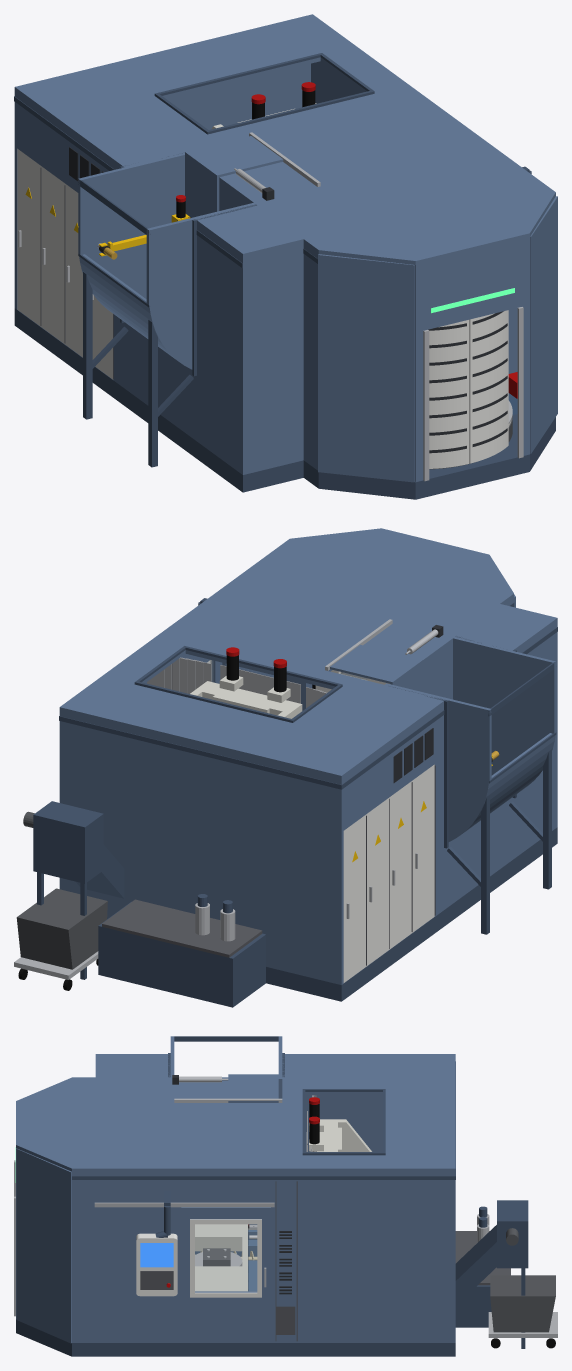
The model's file is clock1200evo_fms_4ax_blue.glb.
3 renders of one model, top to bottom at view 1: azimuth 30°, elevation 25°; view 2: azimuth 150°, elevation 25°; view 3: azimuth 270°, elevation 25°, orthographic. The views are drawn at different scales.
Parts seen in each view (by area): view 1: enclosure__mcm_blue, apc_housing__mcm_blue, tc_box__mcm_blue, electrical_cabinet__evo_white, enclosure__mcm_blue_dk, apc_housing__mcm_blue_dk, apc_door_left__evo_white, apc_door_right__evo_white, tc_box__mcm_blue_dk, tc_door__mcm_blue, apc_housing__steel, apc_door_left__anthracite (+4 smaller); view 2: enclosure__mcm_blue, tc_box__mcm_blue, chip_coolant__mcm_blue_dk, electrical_cabinet__evo_white, enclosure__mcm_blue_dk, apc_housing__mcm_blue, chip_cart__steel_dark, chip_coolant__anthracite_lt, tc_box__mcm_blue_dk, tc_door__mcm_blue, column__struct_grey, enclosure__anthracite (+6 smaller); view 3: enclosure__mcm_blue, apc_housing__mcm_blue, enclosure__mcm_blue_dk, chip_coolant__mcm_blue_dk, operator_door__glass_clear, operator_door__mcm_blue, chip_cart__steel_dark, table__struct_grey, enclosure__steel, operator_door__evo_white, column__struct_grey, tc_door__mcm_blue (+12 smaller).
Part boxes in pixels (<box>): enclosure__mcm_blue: <box>14,14,540,474</box>; apc_housing__mcm_blue: <box>303,181,557,482</box>; tc_box__mcm_blue: <box>78,152,255,369</box>; electrical_cabinet__evo_white: <box>17,149,113,379</box>; enclosure__mcm_blue_dk: <box>14,53,374,492</box>; apc_housing__mcm_blue_dk: <box>303,248,555,499</box>; apc_door_left__evo_white: <box>429,320,469,468</box>; apc_door_right__evo_white: <box>469,310,508,463</box>; tc_box__mcm_blue_dk: <box>78,179,193,467</box>; tc_door__mcm_blue: <box>185,136,283,217</box>; apc_housing__steel: <box>423,307,523,481</box>; apc_door_left__anthracite: <box>428,323,466,453</box>; enclosure__mcm_blue: <box>59,549,557,984</box>; tc_box__mcm_blue: <box>388,637,556,841</box>; chip_coolant__mcm_blue_dk: <box>33,801,265,1007</box>; electrical_cabinet__evo_white: <box>343,764,434,982</box>; enclosure__mcm_blue_dk: <box>59,627,557,1001</box>; apc_housing__mcm_blue: <box>276,528,515,688</box>; chip_cart__steel_dark: <box>16,888,107,969</box>; chip_coolant__anthracite_lt: <box>102,899,262,957</box>; tc_box__mcm_blue_dk: <box>447,662,556,934</box>; tc_door__mcm_blue: <box>330,644,422,691</box>; column__struct_grey: <box>190,676,302,718</box>; enclosure__anthracite: <box>393,625,443,782</box>; enclosure__mcm_blue: <box>95,1054,455,1342</box>; apc_housing__mcm_blue: <box>16,1077,95,1343</box>; enclosure__mcm_blue_dk: <box>95,1053,455,1356</box>; chip_coolant__mcm_blue_dk: <box>455,1200,528,1348</box>; operator_door__glass_clear: <box>195,1225,256,1291</box>; operator_door__mcm_blue: <box>181,1207,270,1308</box>; chip_cart__steel_dark: <box>490,1275,555,1332</box>; table__struct_grey: <box>195,1224,247,1291</box>; enclosure__steel: <box>94,1076,282,1207</box>; operator_door__evo_white: <box>190,1219,261,1297</box>; column__struct_grey: <box>309,1119,371,1151</box>; tc_door__mcm_blue: <box>228,1074,278,1102</box>.
Size of the model in its own units: 5.06 by 3.22 by 7.86.
